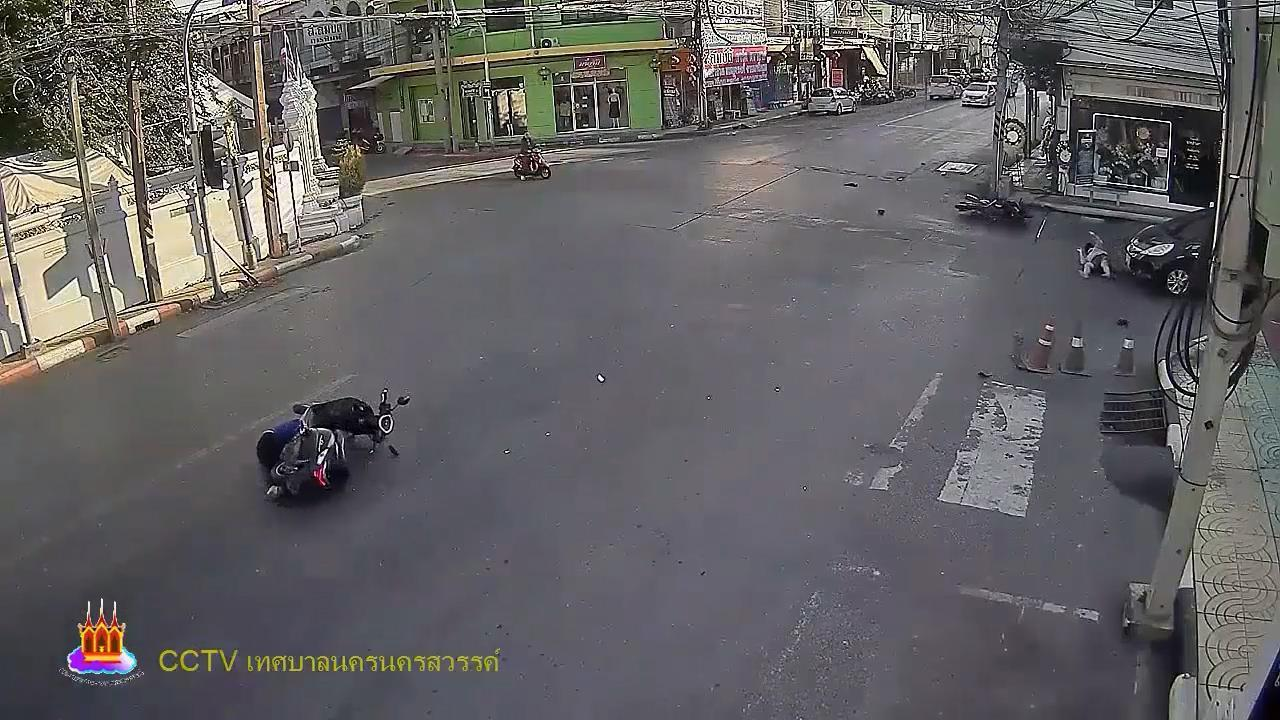accident: (1077, 227, 1115, 283)
